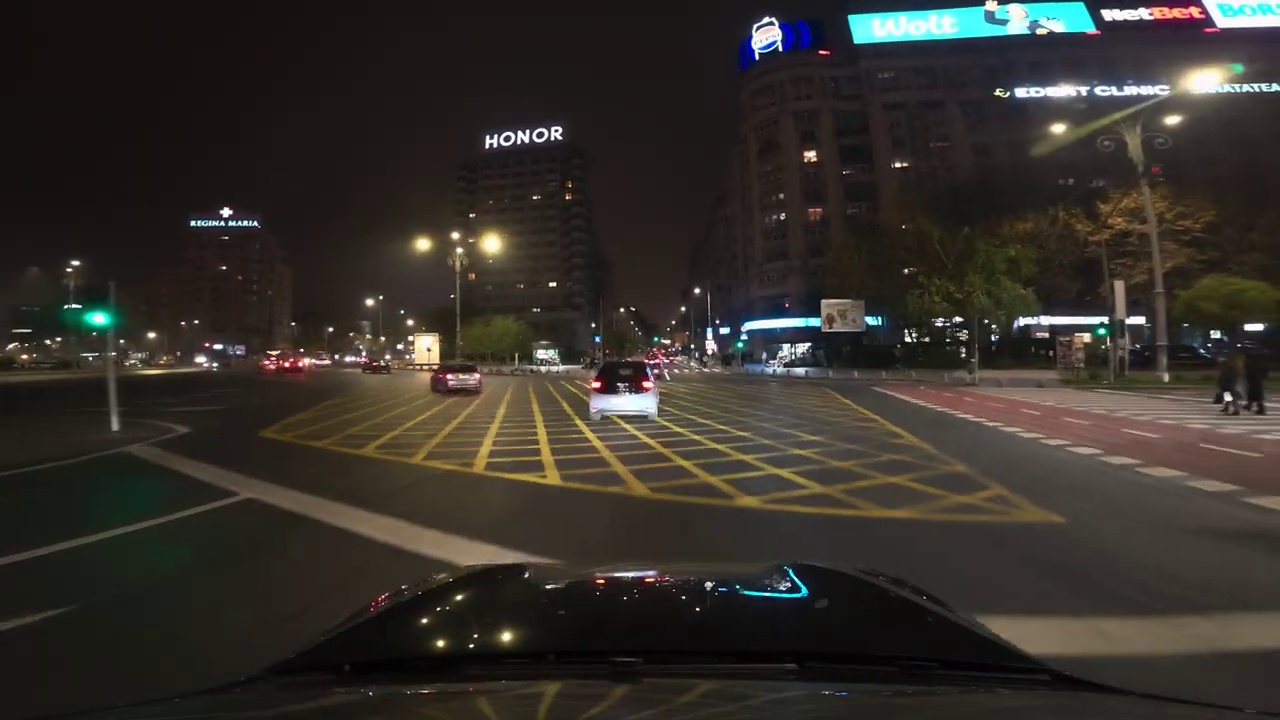acesa: (478, 231, 506, 258), (411, 234, 435, 256), (361, 295, 380, 314)
